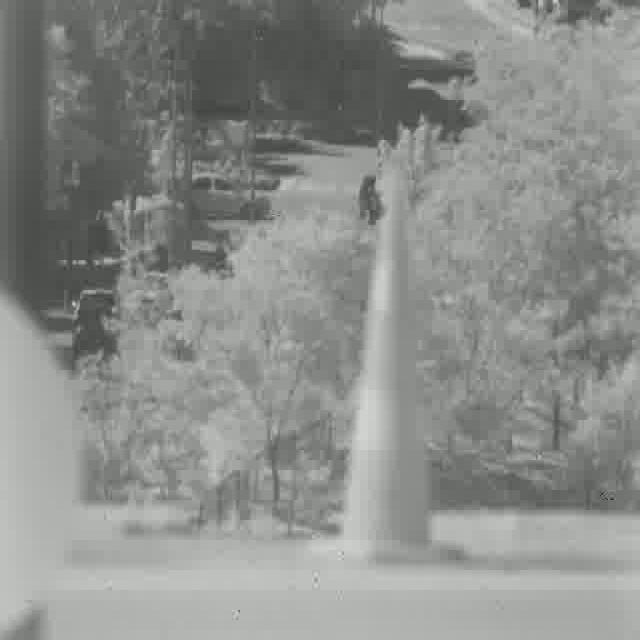Car: (70, 288, 119, 367), (353, 170, 392, 224)
